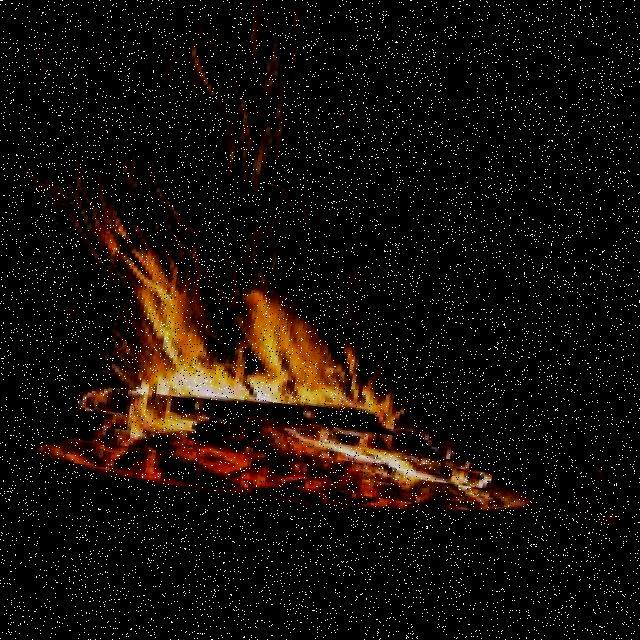Fire: (86, 272, 483, 499)
